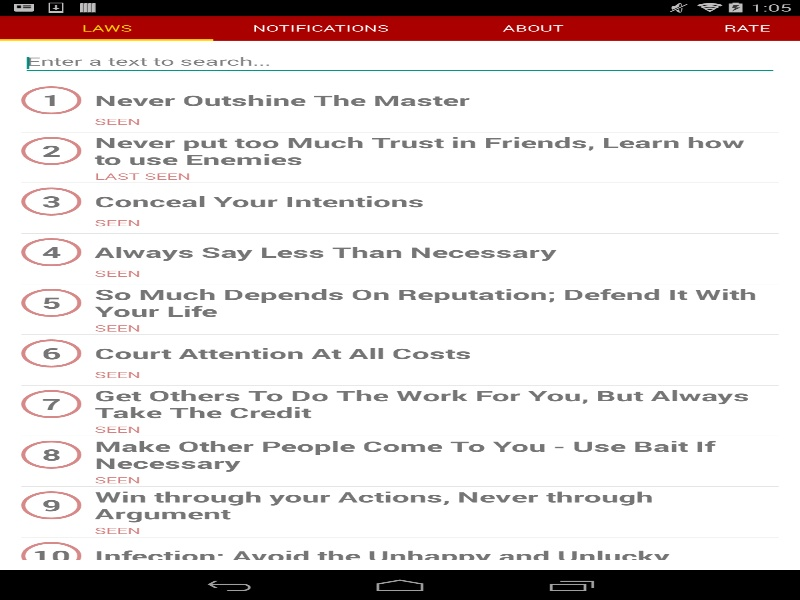Input: (21, 50, 778, 75)
